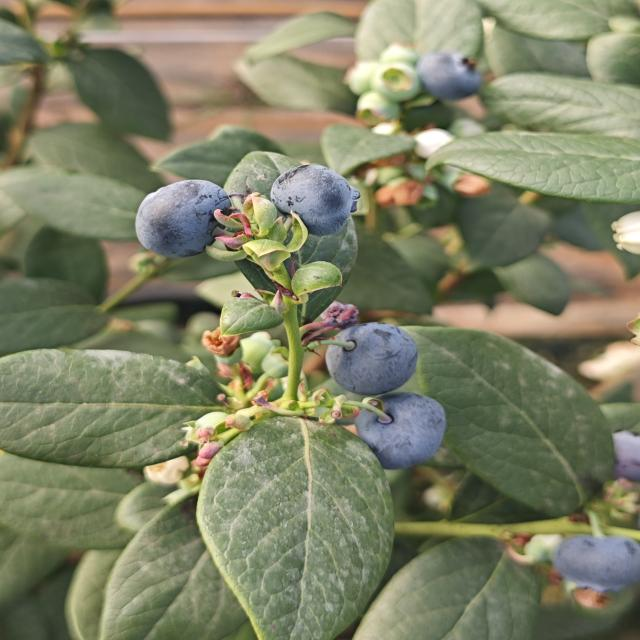ripe: (132, 178, 236, 261), (351, 391, 448, 471), (322, 320, 421, 398), (267, 162, 363, 239), (548, 532, 638, 596), (592, 418, 640, 501), (414, 49, 484, 104)
